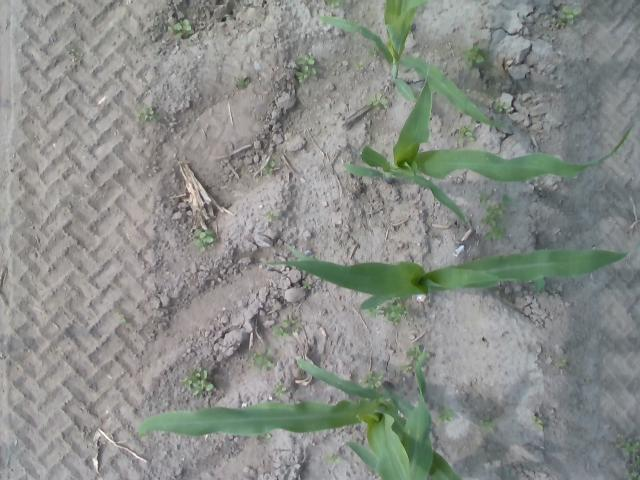Maize: (342, 62, 637, 227), (138, 352, 462, 480), (260, 240, 628, 312), (312, 0, 506, 128)
Weeds: (478, 190, 515, 242), (176, 366, 213, 396), (459, 42, 488, 70), (268, 315, 301, 338), (382, 300, 408, 326), (555, 5, 582, 29), (296, 54, 317, 83), (192, 228, 216, 253), (250, 348, 273, 372), (168, 18, 194, 38), (362, 91, 390, 109), (616, 434, 640, 454), (435, 404, 456, 426), (456, 124, 476, 144), (626, 453, 640, 480), (528, 413, 546, 432), (362, 368, 380, 387), (270, 380, 286, 400), (135, 107, 157, 121), (110, 307, 128, 324), (478, 418, 498, 432), (405, 342, 422, 358), (261, 162, 277, 178), (492, 100, 510, 114), (324, 453, 341, 465), (324, 0, 346, 9), (236, 76, 250, 90), (264, 208, 278, 222), (364, 44, 378, 58), (533, 280, 546, 294), (363, 307, 378, 318), (400, 363, 414, 374), (301, 278, 312, 290), (68, 47, 78, 59), (555, 357, 567, 366), (354, 60, 366, 68), (262, 434, 274, 442), (224, 14, 232, 20)
